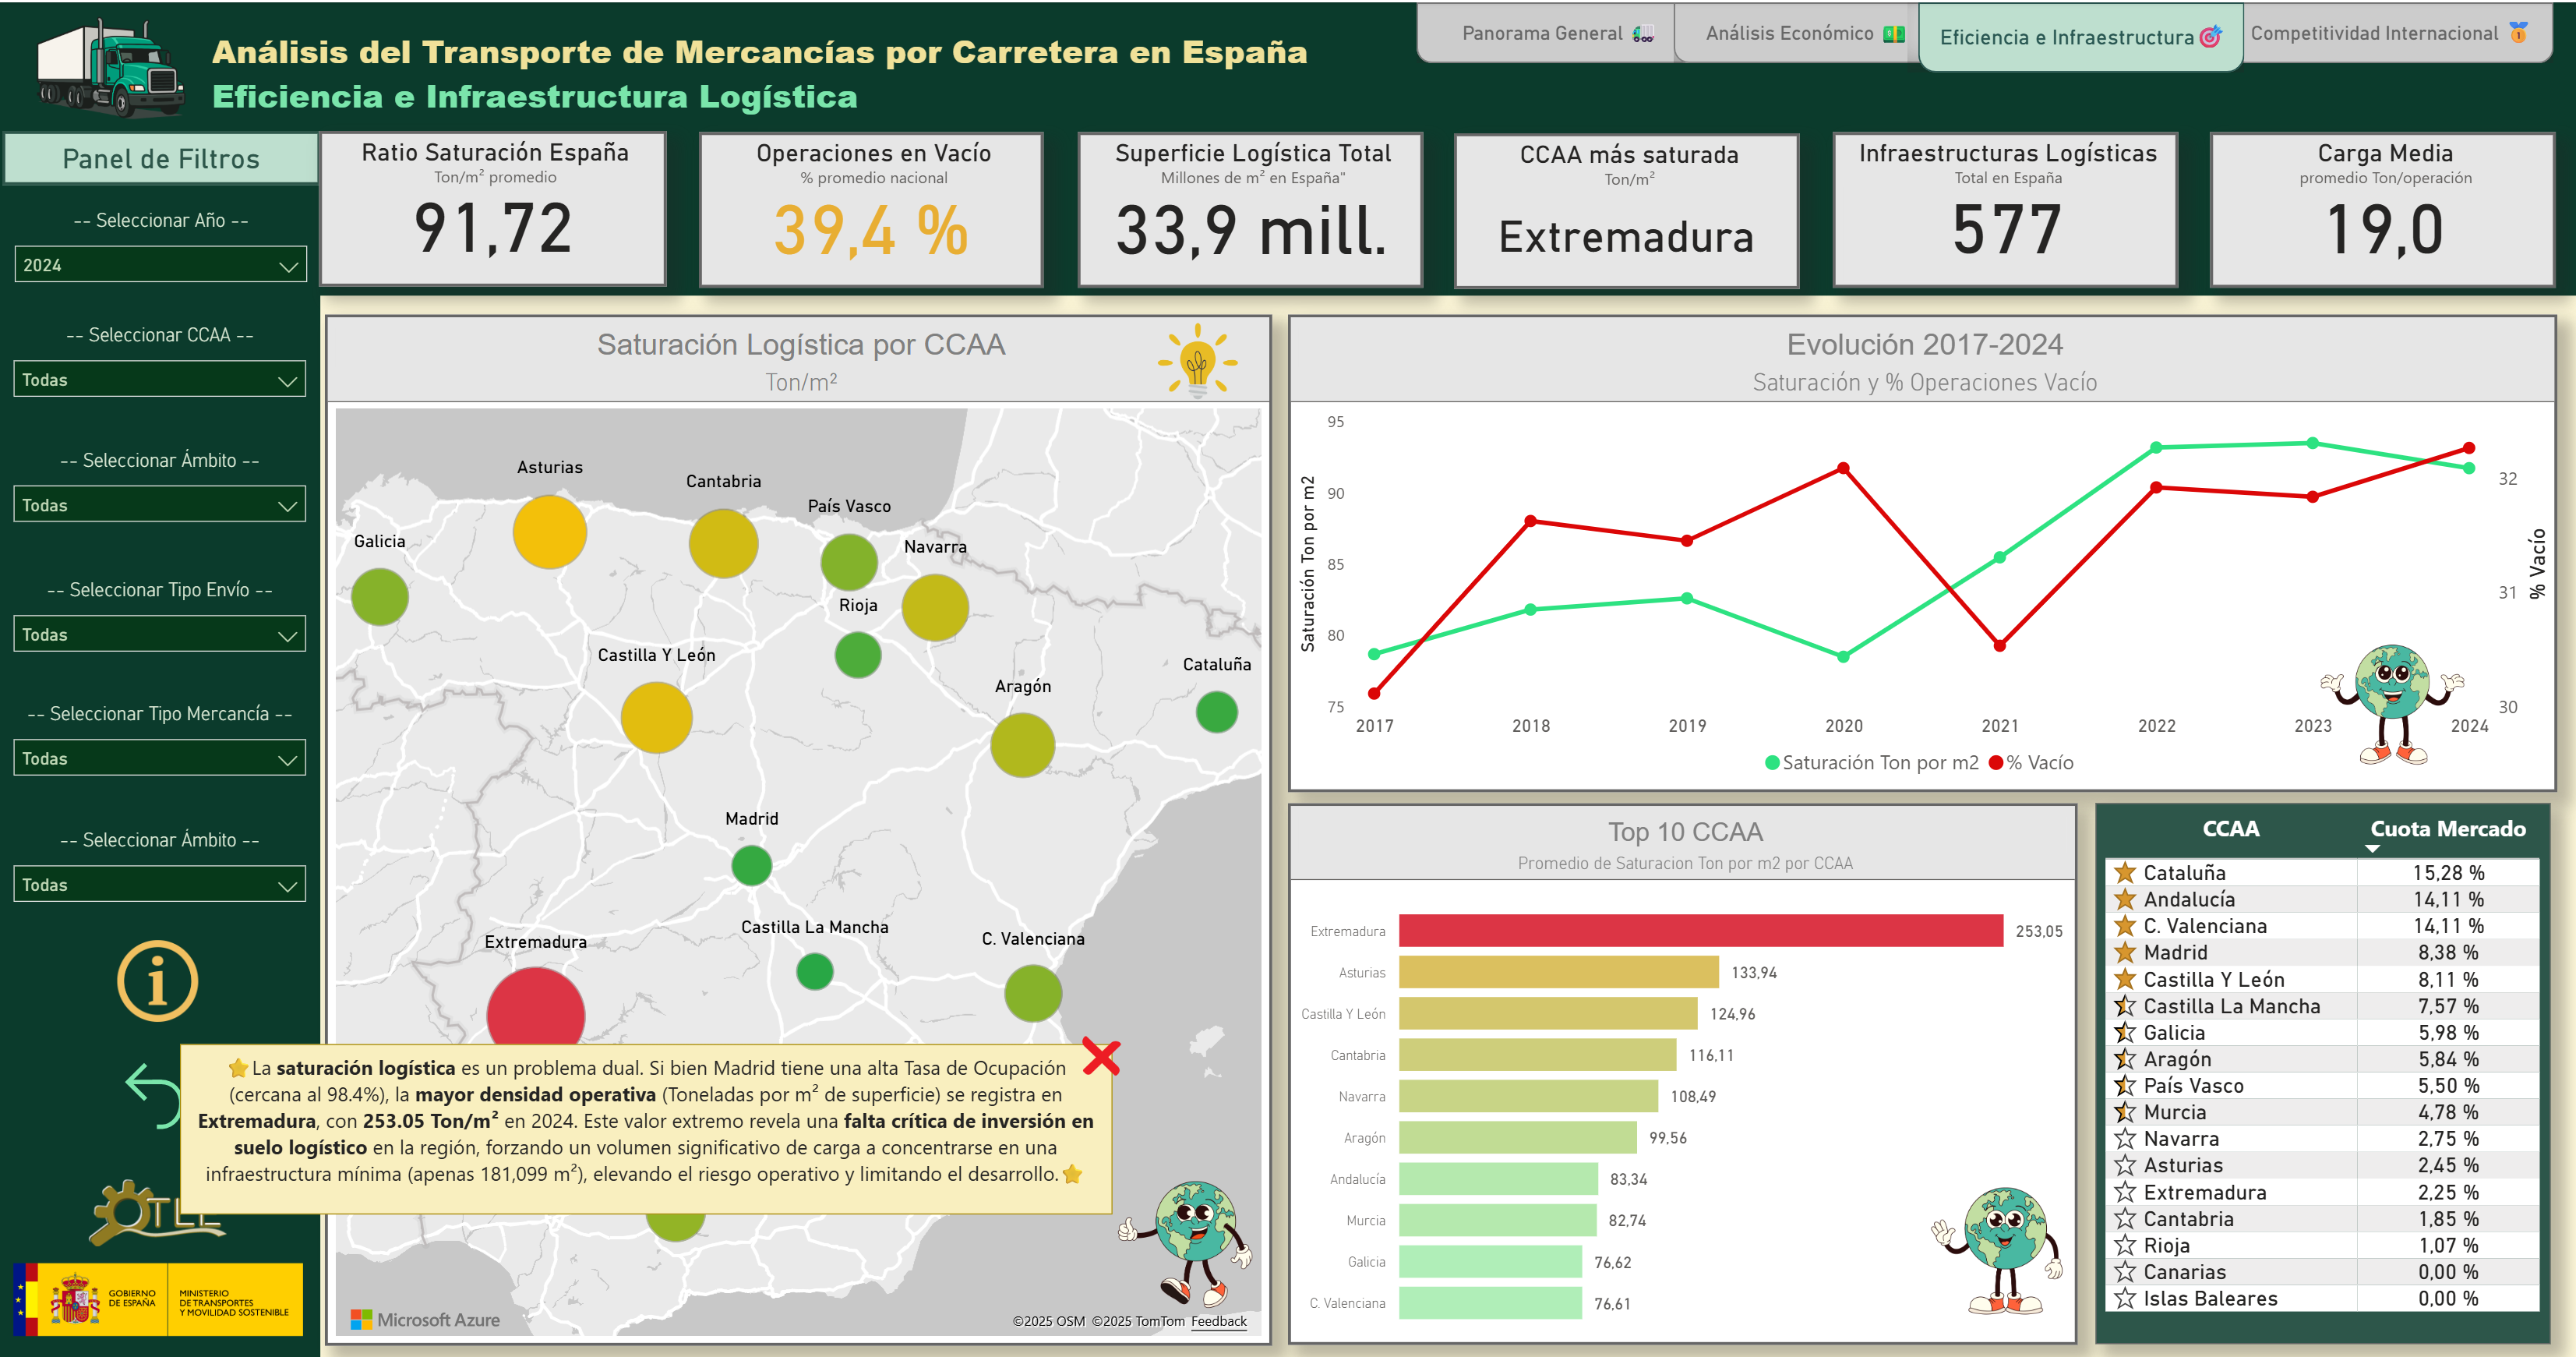

What the dashboard file says about the page in this screenshot:
{"tool":"powerbi","page":{"name":"Eficiencia e Infraestructura","canvas":[1747,920],"ordinal":3},"visuals":[{"type":"group","id":"g1","title":"Panel diseño","box":[0,0,1747,919.7],"z":0},{"type":"shape","box":[0,0,1747,198.6],"z":0,"group":"g1"},{"type":"shape","box":[0,81.2,218.5,838.5],"z":1000,"group":"g1"},{"type":"cardVisual","title":"Infraestructuras Logísticas","fields":{"Data":["Medidas Eficiencia e Infraestructura.Tipos Infraestructura"]},"box":[1242.3,87.8,234.2,105],"z":1000},{"type":"textbox","box":[140.3,12.6,782.4,71],"z":2000,"group":"g1"},{"type":"image","title":"Info Pag 3","box":[75.5,626.8,65.6,71],"z":2000},{"type":"slicer","title":"-- Seleccionar Año --","fields":{"Values":["Dim Año.Año"]},"box":[1.8,140.1,218,63.9],"z":3000},{"type":"slicer","title":"-- Seleccionar CCAA --","fields":{"Values":["CCAA Dim.CCAA"]},"box":[0.9,218,218,63],"z":4000},{"type":"slicer","title":"-- Seleccionar Ámbito --","fields":{"Values":["Tipo Envio Dim.Ámbito"]},"box":[0.9,302,218,63.9],"z":5000},{"type":"slicer","title":"-- Seleccionar Tipo Envío --","fields":{"Values":["Tipo Envio Dim.Tipo Envío"]},"box":[1,390.4,218,63.9],"z":6000},{"type":"textbox","box":[3.2,87,215.2,36.4],"z":7000},{"type":"cardVisual","title":"Ratio Saturación España","fields":{"Data":["Avg(KPI Saturación Logística.Saturacion Ton por m2)"]},"box":[217.6,87,235,105],"z":8000},{"type":"cardVisual","title":"Operaciones en Vacío","fields":{"Data":["Medidas Eficiencia e Infraestructura.Promedio Op Vacio (%)"]},"box":[474.8,87.8,233.4,105],"z":9000},{"type":"cardVisual","title":"Superficie Logística Total","fields":{"Data":["Sum(KPI Saturación Logística.Superficie m2)"]},"box":[731.2,87.8,234.2,105],"z":10000},{"type":"cardVisual","title":"CCAA más saturada","fields":{"Data":["Min(Dim CCAA.CCAA)"]},"box":[985.9,88.6,234.2,105],"z":11000},{"type":"slicer","title":"-- Seleccionar Tipo Mercancía --","fields":{"Values":["Dim Infraestructuras.Tipo Infraestructura"]},"box":[0.9,473.6,218,63],"z":13000},{"type":"azureMap","title":"Saturación Logística por CCAA","fields":{"Category":["Dim CCAA.CCAA","C0516 Infraestructuras Logísticas.Provincia"],"Size":["Avg(KPI Saturación Logística.Saturacion Ton por m2)"]},"box":[221.6,211.2,641.2,697.8],"z":14000},{"type":"shape","box":[1512.6,0,218.2,41.2],"z":15000},{"type":"shape","box":[960.6,0,194.7,41.1],"z":16000},{"type":"shape","box":[1134.7,0,181.2,41.1],"z":17000},{"type":"image","box":[4,846.7,208.9,62.5],"z":18000},{"type":"image","box":[6.3,791.4,204.1,55.8],"z":19000},{"type":"actionButton","box":[77.3,711.3,65.6,57.6],"z":20000},{"type":"shape","box":[1293,0,227.9,47.5],"z":21000},{"type":"cardVisual","title":"Carga Media","fields":{"Data":["Medidas Eficiencia e Infraestructura.Carga media por op"]},"box":[1497.9,87.8,234.2,105],"z":22000},{"type":"lineChart","title":"Evolución 2017-2024","fields":{"Category":["Dim Año.Año"],"Y":["Avg(KPI Saturación Logística.Saturacion Ton por m2)"],"Y2":["Avg(C0285 Operaciones Vacío.% Vacío)"]},"box":[873.6,211.3,859.3,323.6],"z":23000},{"type":"clusteredBarChart","title":"Top 10 CCAA","fields":{"Category":["Dim CCAA.CCAA"],"Y":["Avg(KPI Saturación Logística.Saturacion Ton por m2)"]},"box":[873.2,542.2,534.7,366.8],"z":24000},{"type":"slicer","title":"-- Seleccionar Ámbito --","fields":{"Values":["Dim Infraestructuras.Funcion"]},"box":[1,559.4,218,63.9],"z":25000},{"type":"tableEx","fields":{"Values":["Dim CCAA.CCAA","KPI Cuota Mercado CCAA.Cuota Mercado"]},"box":[1420.4,542,307.8,366],"z":26000},{"type":"image","box":[1567.5,415.4,107.6,119.5],"z":29000},{"type":"image","box":[9.9,0,133.1,86.3],"z":31000},{"type":"image","box":[1303.3,796.8,100.5,99.7],"z":34000},{"type":"image","box":[752.5,791.3,102.1,99.7],"z":35000},{"type":"image","box":[777.9,211.3,70.1,62.9],"z":37000}]}

Visuals, with their boxes in screenshot pixels (x1, y1, x2, y2), scaled from the page's 1747x920 canvas onto the 2576x1357 screenshot:
"Panel diseño" group: Rect(0, 0, 2575, 1356)
shape: Rect(0, 0, 2575, 293)
shape: Rect(0, 120, 322, 1356)
"Infraestructuras Logísticas" cardVisual: Rect(1832, 129, 2177, 284)
textbox: Rect(207, 19, 1360, 123)
"Info Pag 3" image: Rect(111, 924, 208, 1030)
"-- Seleccionar Año --" slicer: Rect(2, 207, 324, 301)
"-- Seleccionar CCAA --" slicer: Rect(2, 322, 323, 415)
"-- Seleccionar Ámbito --" slicer: Rect(2, 446, 323, 539)
"-- Seleccionar Tipo Envío --" slicer: Rect(2, 576, 323, 670)
textbox: Rect(5, 129, 322, 182)
"Ratio Saturación España" cardVisual: Rect(321, 129, 667, 283)
"Operaciones en Vacío" cardVisual: Rect(700, 129, 1044, 284)
"Superficie Logística Total" cardVisual: Rect(1078, 129, 1424, 284)
"CCAA más saturada" cardVisual: Rect(1454, 131, 1799, 285)
"-- Seleccionar Tipo Mercancía --" slicer: Rect(2, 698, 323, 791)
"Saturación Logística por CCAA" azureMap: Rect(326, 312, 1272, 1341)
shape: Rect(2230, 0, 2552, 61)
shape: Rect(1417, 0, 1703, 61)
shape: Rect(1673, 0, 1940, 61)
image: Rect(6, 1249, 314, 1341)
image: Rect(9, 1168, 310, 1249)
actionButton: Rect(114, 1049, 210, 1134)
shape: Rect(1907, 0, 2243, 70)
"Carga Media" cardVisual: Rect(2209, 129, 2554, 284)
"Evolución 2017-2024" lineChart: Rect(1288, 312, 2555, 789)
"Top 10 CCAA" clusteredBarChart: Rect(1287, 800, 2076, 1341)
"-- Seleccionar Ámbito --" slicer: Rect(2, 825, 323, 920)
tableEx - Dim CCAA.CCAA x KPI Cuota Mercado CCAA.Cuota Mercado: Rect(2094, 800, 2548, 1339)
image: Rect(2311, 613, 2470, 789)
image: Rect(15, 0, 211, 127)
image: Rect(1921, 1175, 2070, 1323)
image: Rect(1110, 1167, 1260, 1314)
image: Rect(1147, 312, 1251, 405)
